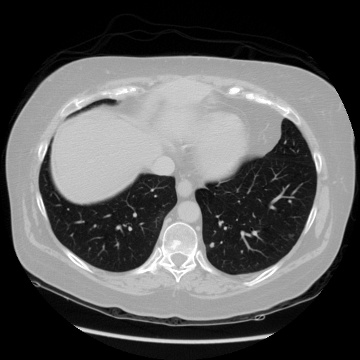PN: (209, 241, 215, 247)
